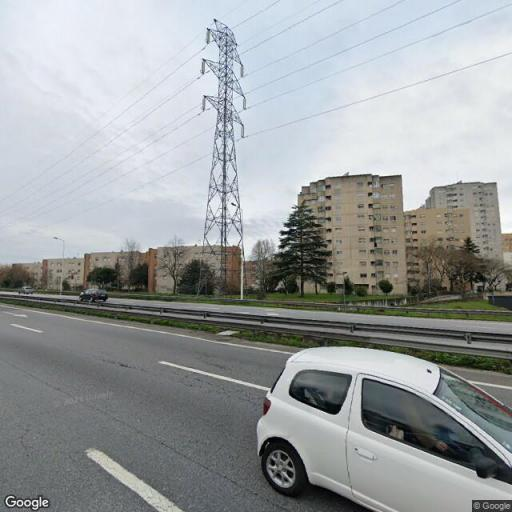ss_3: (200, 16, 250, 298)
